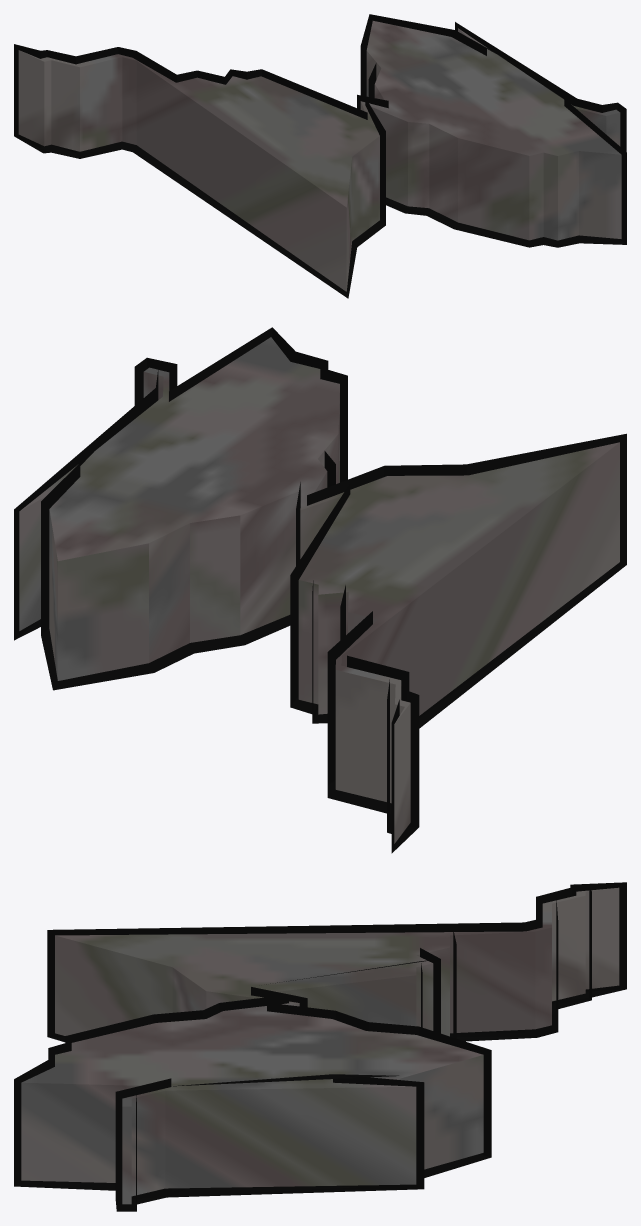
Rendered from Building_FloorEtchingRambling_Things_Filth_FloorEtchings_FloorEtchingF.glb.
3 views of the same model, one above another, from view 1: azimuth 30°, elevation 25°; view 2: azimuth 150°, elevation 25°; view 3: azimuth 270°, elevation 25° (orthographic). The views are drawn at different scales.
Parts seen in each view (by area): view 1: Body, Outline; view 2: Body, Outline; view 3: Body, Outline.
Boxes of the visible parts, box(x1,y1,x2,y2) form: Body: box(18, 21, 621, 291); Outline: box(14, 14, 626, 298); Body: box(19, 337, 619, 843); Outline: box(14, 327, 626, 853); Body: box(21, 887, 619, 1204); Outline: box(14, 882, 626, 1211).
Size of the model in its own units: 0.8716 by 0.2103 by 1.02.
Materials: 2 (1 with a texture image).
